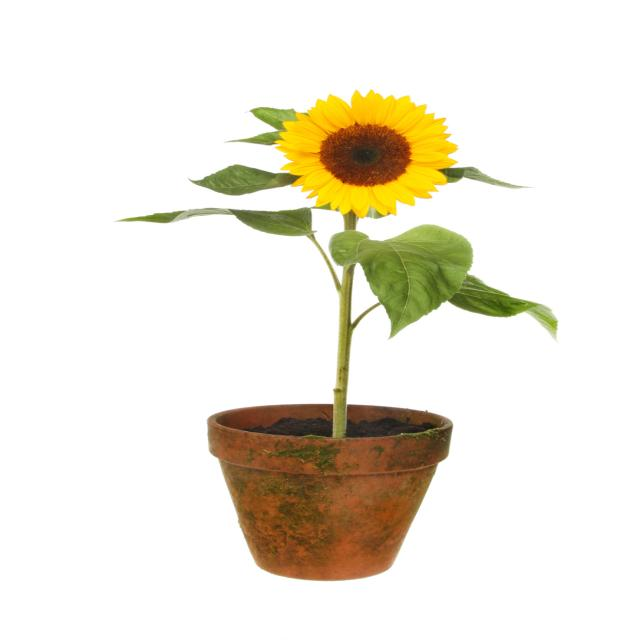sunflower: (252, 70, 470, 216)
